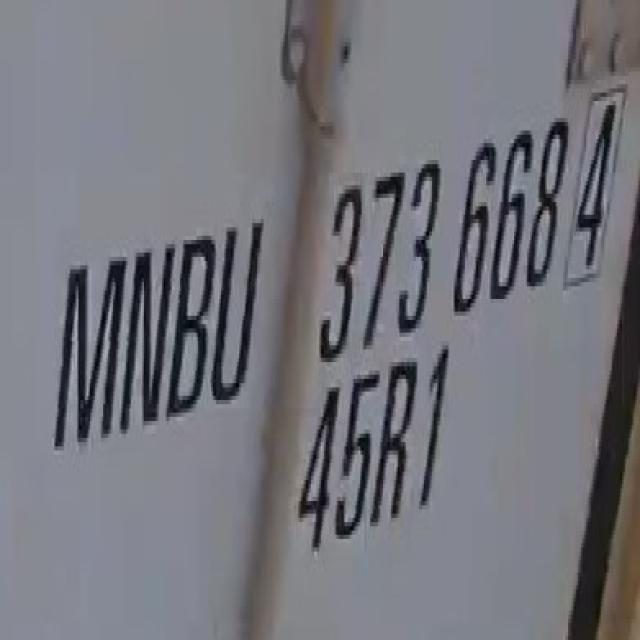dv: (570, 76, 622, 298)
owner: (51, 181, 264, 473)
serial: (311, 81, 570, 372)
size: (288, 345, 458, 571)
